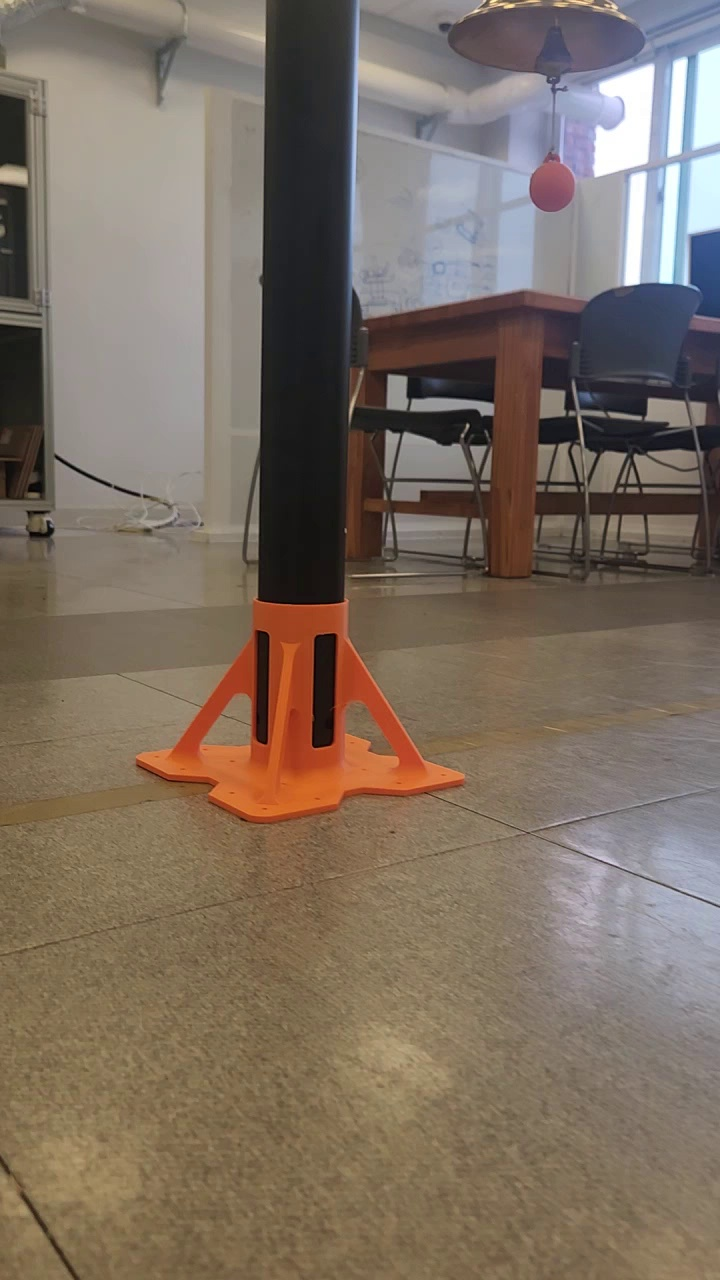bell: (437, 2, 650, 82)
pole: (253, 1, 356, 600)
